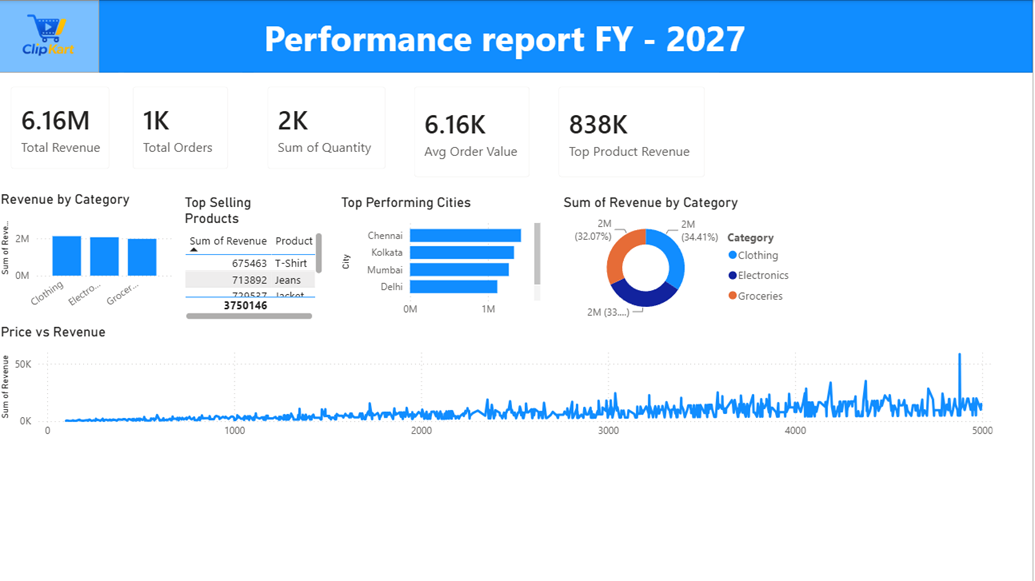

The page's visual inventory and layout, read from the dashboard file:
{"tool":"powerbi","page":{"name":"Page 1","canvas":[1280,720],"ordinal":0},"visuals":[{"type":"shape","box":[0,0,1280,90],"z":0},{"type":"image","box":[0,0,126.4,90],"z":1000},{"type":"textbox","box":[325,11.7,630,66.7],"z":2000},{"type":"cardVisual","fields":{"Data":["Sum(clipkart_ecommerce_data.Revenue)"]},"box":[0,90,156.2,136.2],"z":2001},{"type":"lineChart","title":"Price vs Revenue","fields":{"Y":["Sum(clipkart_ecommerce_data.Revenue)"],"Category":["clipkart_ecommerce_data.Price"]},"box":[0,400,1235,150],"z":2002},{"type":"columnChart","title":"Revenue by Category","fields":{"Category":["clipkart_ecommerce_data.Category"],"Y":["Sum(clipkart_ecommerce_data.Revenue)"]},"box":[0,236.2,222.5,155],"z":2003},{"type":"tableEx","title":"Top Selling Products","fields":{"Values":["Sum(clipkart_ecommerce_data.Revenue)","clipkart_ecommerce_data.Product"]},"box":[227.5,240,180,160],"z":2004},{"type":"cardVisual","fields":{"Data":["CountNonNull(clipkart_ecommerce_data.Revenue)"]},"box":[151.2,90,152.5,136.2],"z":2005},{"type":"cardVisual","fields":{"Data":["Sum(clipkart_ecommerce_data.Quantity)"]},"box":[317.5,90,180,136.2],"z":2006},{"type":"clusteredBarChart","title":"Top Performing Cities","fields":{"Category":["clipkart_ecommerce_data.City"],"Y":["Sum(clipkart_ecommerce_data.Revenue)"]},"box":[420,240,256.2,160],"z":2007},{"type":"cardVisual","fields":{"Data":["clipkart_ecommerce_data.Avg Order Value"]},"box":[498.8,90,177.5,146.2],"z":2008},{"type":"donutChart","fields":{"Category":["clipkart_ecommerce_data.Category"],"Y":["Sum(clipkart_ecommerce_data.Revenue)"]},"box":[695,240,297.5,160],"z":2009},{"type":"cardVisual","fields":{"Data":["clipkart_ecommerce_data.Top Product Revenue"]},"box":[676.2,90,215,146.2],"z":2010}]}

Visuals, with their boxes in screenshot pixels (x1, y1, x2, y2), scaled from the page's 1280x720 canvas onto the 1035x581 screenshot:
shape: [left=0, top=0, right=1034, bottom=73]
image: [left=0, top=0, right=102, bottom=73]
textbox: [left=263, top=9, right=772, bottom=63]
cardVisual - Sum(clipkart_ecommerce_data.Revenue): [left=0, top=73, right=126, bottom=183]
"Price vs Revenue" lineChart: [left=0, top=323, right=999, bottom=444]
"Revenue by Category" columnChart: [left=0, top=191, right=180, bottom=316]
"Top Selling Products" tableEx: [left=184, top=194, right=330, bottom=323]
cardVisual - CountNonNull(clipkart_ecommerce_data.Revenue): [left=122, top=73, right=246, bottom=183]
cardVisual - Sum(clipkart_ecommerce_data.Quantity): [left=257, top=73, right=402, bottom=183]
"Top Performing Cities" clusteredBarChart: [left=340, top=194, right=547, bottom=323]
cardVisual - clipkart_ecommerce_data.Avg Order Value: [left=403, top=73, right=547, bottom=191]
donutChart - clipkart_ecommerce_data.Category x Sum(clipkart_ecommerce_data.Revenue): [left=562, top=194, right=803, bottom=323]
cardVisual - clipkart_ecommerce_data.Top Product Revenue: [left=547, top=73, right=721, bottom=191]
